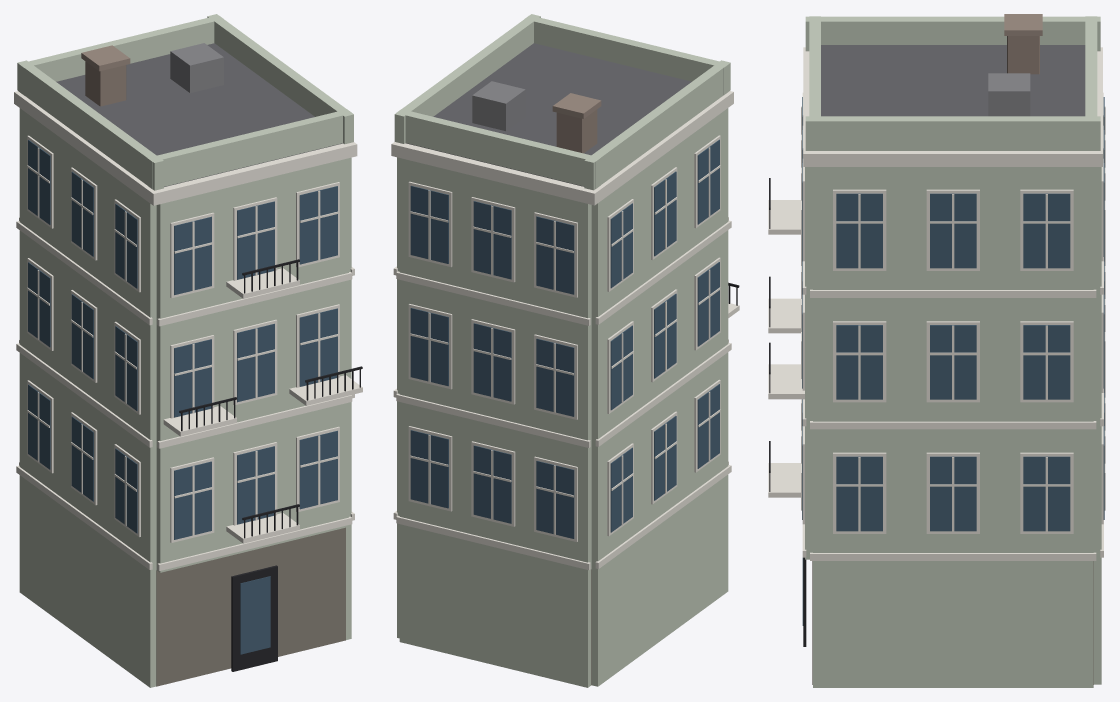
Rendered from house_4.glb.
3 renders of one model, left to right at view 1: azimuth 30°, elevation 25°; view 2: azimuth 150°, elevation 25°; view 3: azimuth 270°, elevation 25°, orthographic. The views are drawn at different scales.
Parts seen in each view (by area): view 1: house4_plaster, house4_glass, house4_stone, house4_wood, house4_iron, house4_brick; view 2: house4_plaster, house4_glass, house4_wood, house4_stone, house4_iron, house4_brick; view 3: house4_plaster, house4_glass, house4_stone, house4_wood, house4_iron, house4_brick.
Part boxes in pixels (x1,y1,x2,y2): house4_plaster: [17, 14, 353, 687]; house4_glass: [28, 140, 337, 654]; house4_stone: [14, 91, 362, 686]; house4_wood: [27, 135, 339, 671]; house4_iron: [170, 43, 362, 538]; house4_brick: [81, 45, 130, 106]; house4_plaster: [394, 14, 730, 687]; house4_glass: [410, 139, 719, 538]; house4_wood: [408, 135, 720, 541]; house4_stone: [391, 91, 739, 685]; house4_iron: [472, 81, 739, 305]; house4_brick: [552, 93, 601, 153]; house4_plaster: [805, 16, 1101, 687]; house4_glass: [802, 97, 1104, 625]; house4_stone: [768, 47, 1103, 684]; house4_wood: [801, 92, 1105, 646]; house4_iron: [769, 73, 1030, 491]; house4_brick: [1004, 14, 1042, 74].
Bounding box in the file's own units: 5.51 × 13.87 × 7.2.
